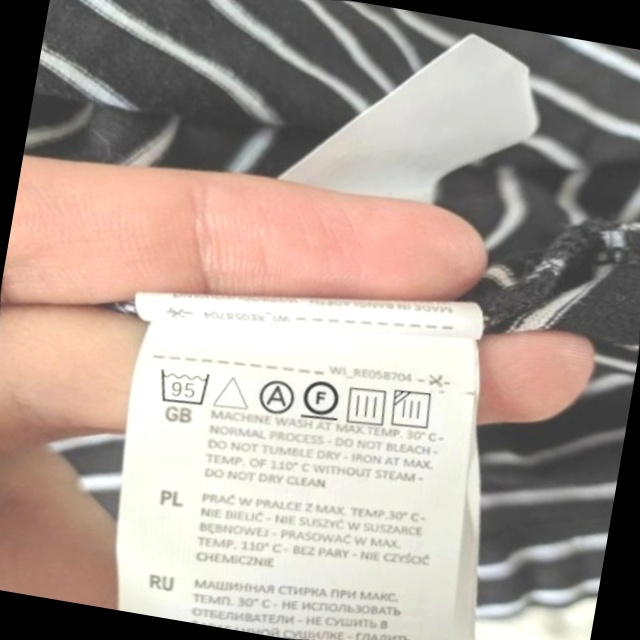95C: (151, 359, 218, 414)
bleach: (209, 366, 255, 417)
drip_dry: (339, 378, 394, 432)
drip_dry_in_shade: (386, 382, 442, 438)
dry_clean: (251, 373, 300, 420)
dry_clean_petrol_only: (296, 370, 347, 427)
